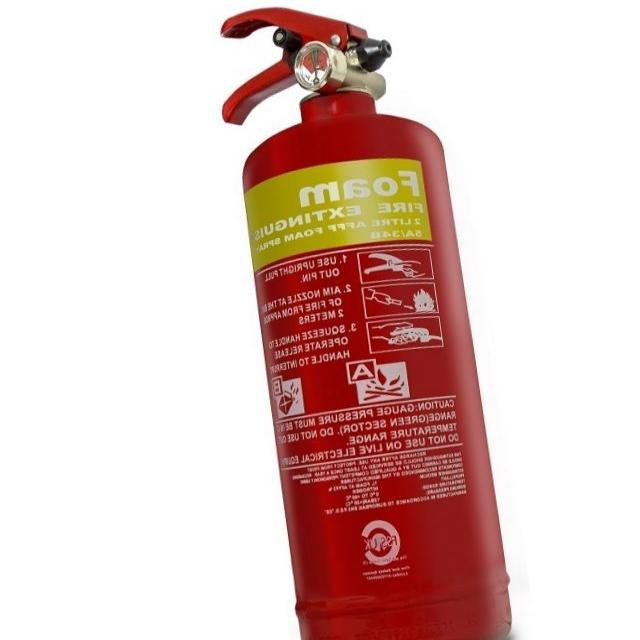fire_extinguisher: (206, 1, 525, 639)
